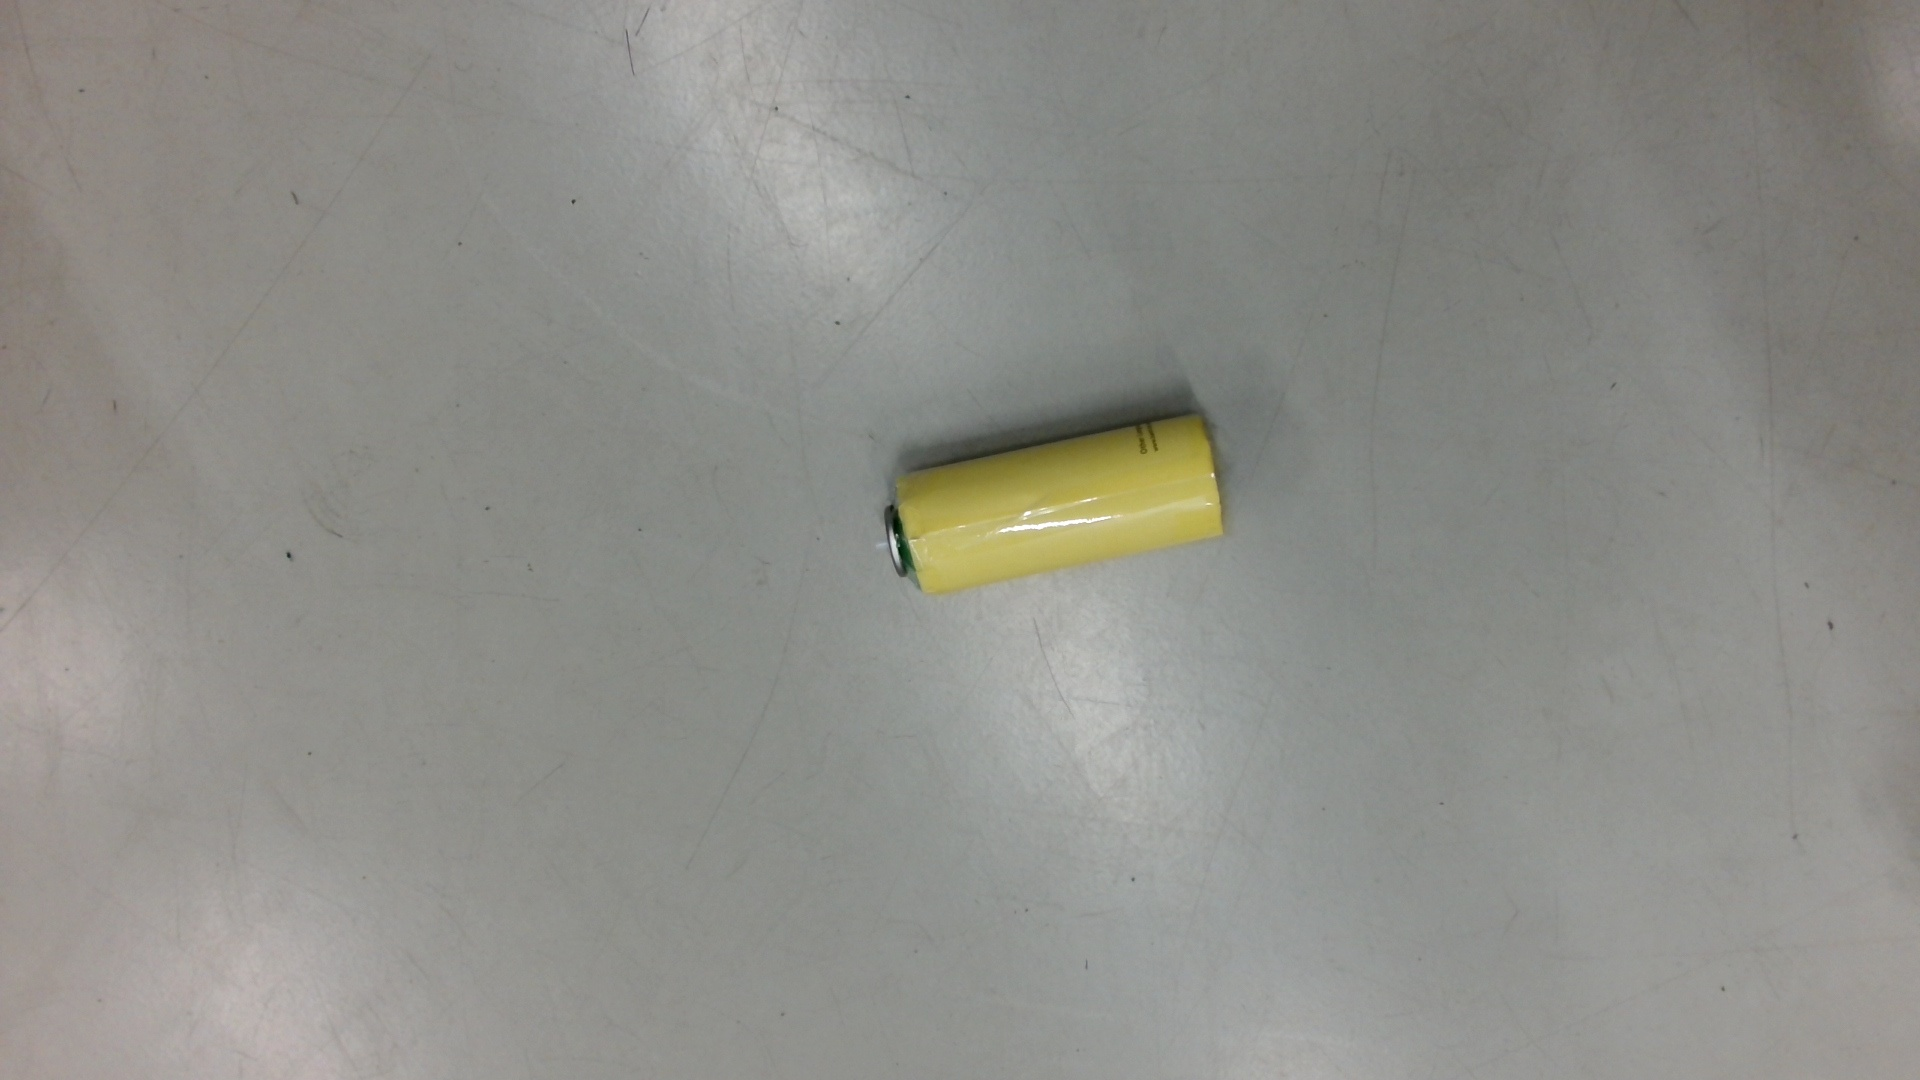Cylinder: (858, 404, 1247, 609)
